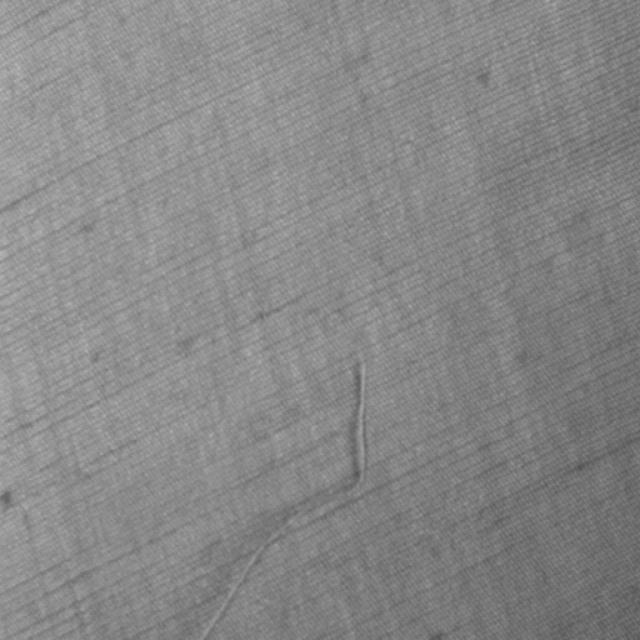objects: (184, 351, 378, 639)
